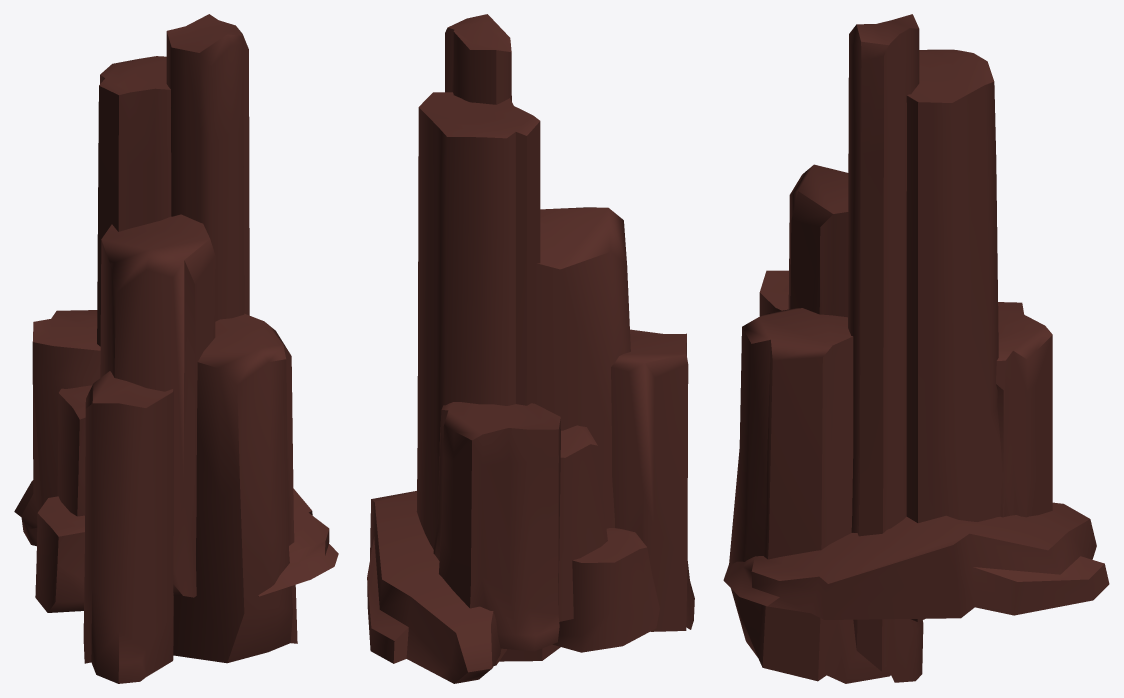
Rendered from SM_big_rock_complex_D.fbx.
The picture shows the model from 3 angles, left to right: view 1: azimuth 30°, elevation 25°; view 2: azimuth 150°, elevation 25°; view 3: azimuth 270°, elevation 25°; orthographic projection. The views are drawn at different scales.
Parts seen in each view (by area): view 1: polySurface37; view 2: polySurface37; view 3: polySurface37.
Boxes of the visible parts, x1,y1,x2,y2 form: polySurface37: (14,14,338,683); polySurface37: (367,14,694,683); polySurface37: (723,14,1109,683).
Size of the model in its own units: 960 by 2280 by 1220.
